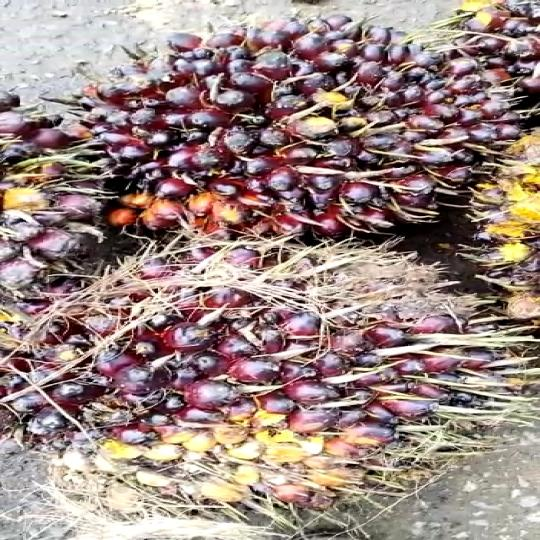kurang masak: (4, 225, 520, 520), (62, 19, 522, 259)
